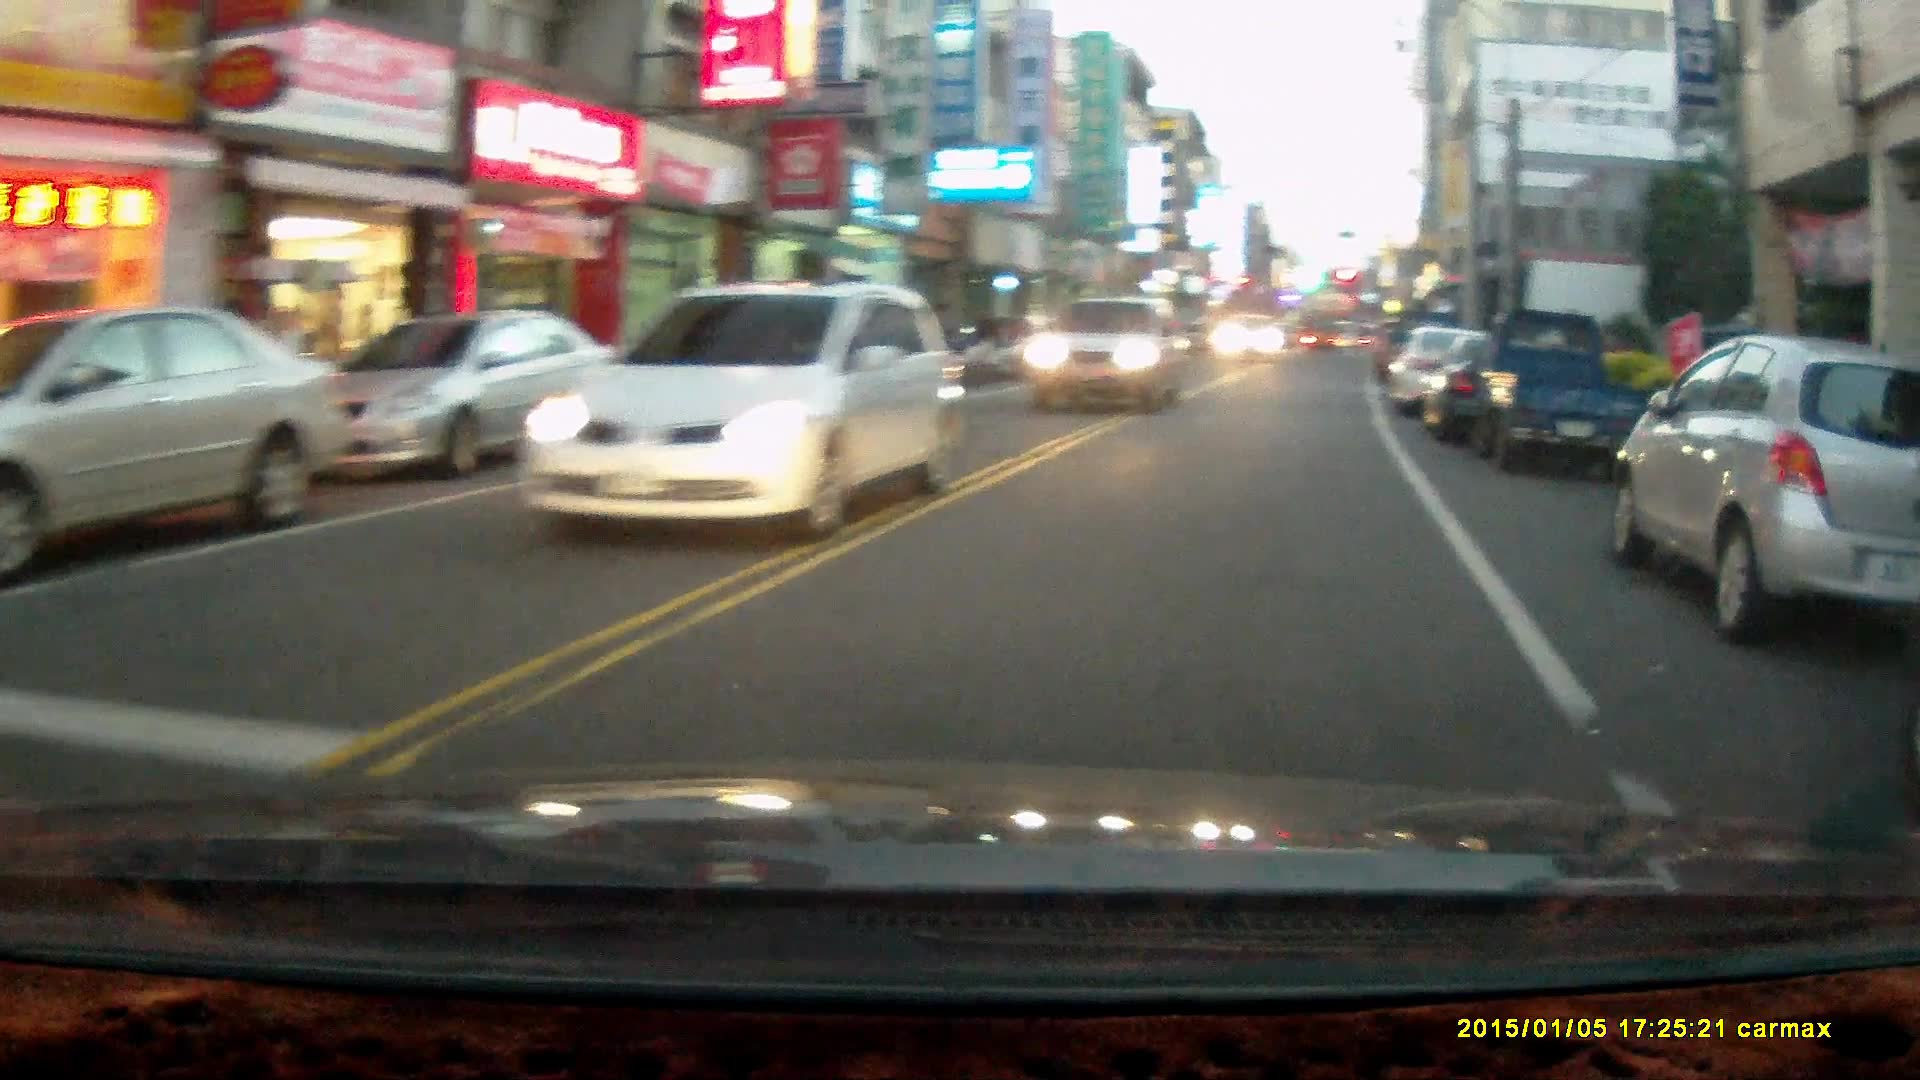vehicle: (512, 284, 963, 545), (1606, 334, 1920, 651), (1, 305, 348, 578), (305, 310, 613, 487), (1465, 311, 1650, 477), (1021, 297, 1196, 417), (1386, 319, 1539, 419), (1213, 315, 1288, 367)
